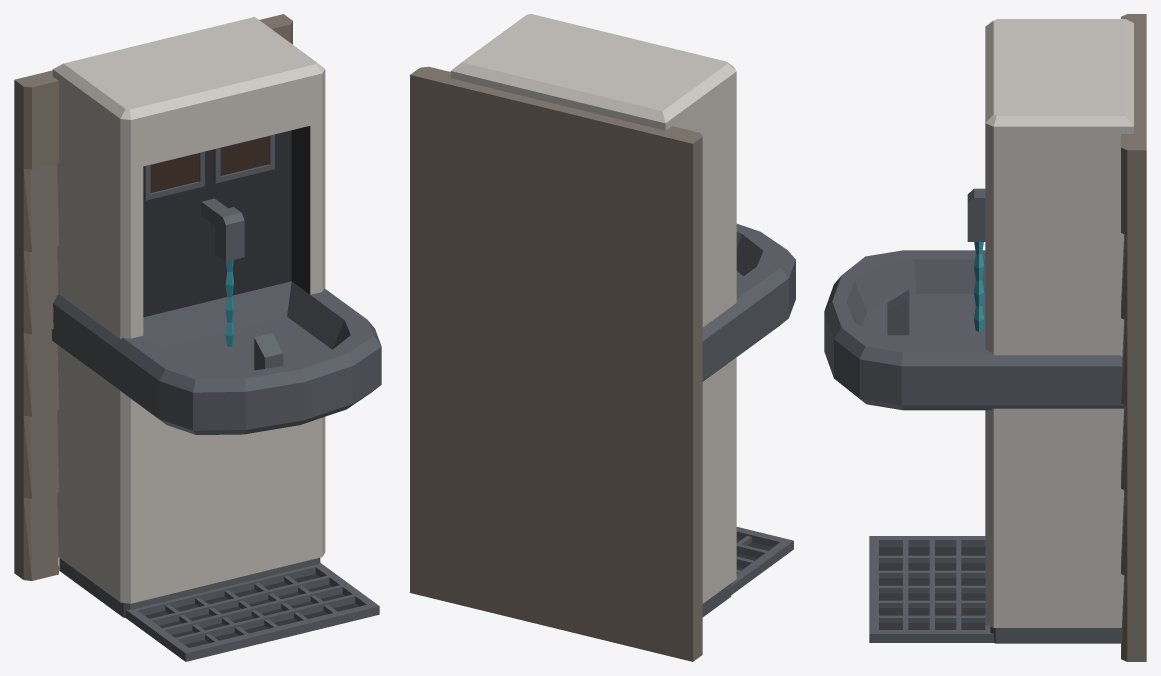
File: water-fountain-bottle-filler-919fbb.glb
3 views of the same model, side by side, from view 1: azimuth 30°, elevation 25°; view 2: azimuth 150°, elevation 25°; view 3: azimuth 270°, elevation 25° (orthographic). The views are drawn at different scales.
Visible parts, largest first — view 1: fountain-body, water-stream-mesh; view 2: fountain-body; view 3: fountain-body, water-stream-mesh.
Boxes of the visible parts, bbox=[...] form: fountain-body: bbox=[14, 14, 381, 661]; water-stream-mesh: bbox=[225, 260, 233, 346]; fountain-body: bbox=[410, 14, 795, 661]; fountain-body: bbox=[824, 14, 1146, 661]; water-stream-mesh: bbox=[974, 242, 984, 331].
Size of the model in its own units: 1 by 1.8 by 1.
